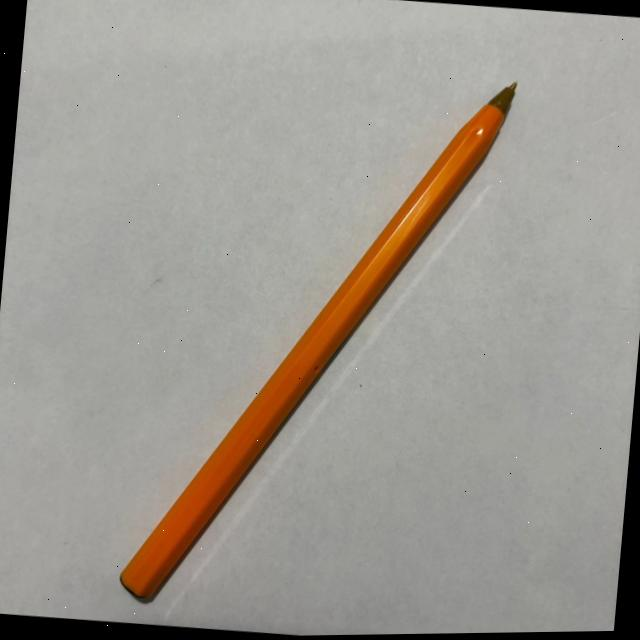pencil: (119, 87, 516, 606)
